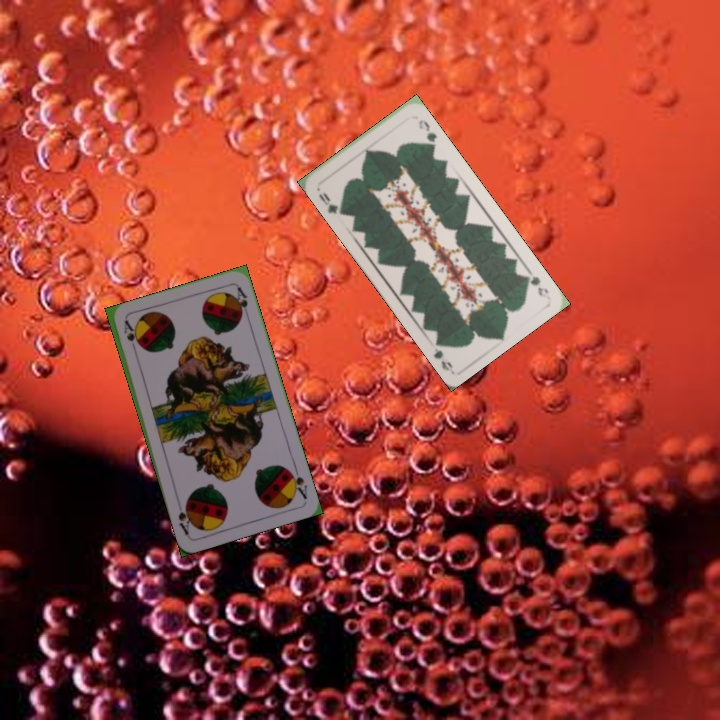G9: (520, 264, 551, 300), (314, 187, 346, 217)
SA: (284, 462, 310, 502), (120, 317, 140, 357)
